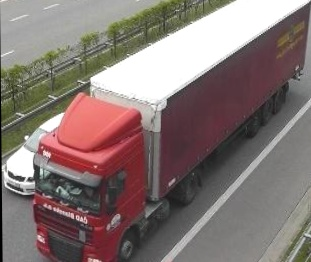truck: (29, 0, 311, 262)
